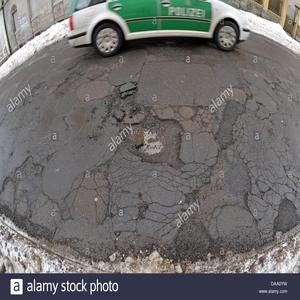pothole: (112, 107, 184, 171)
